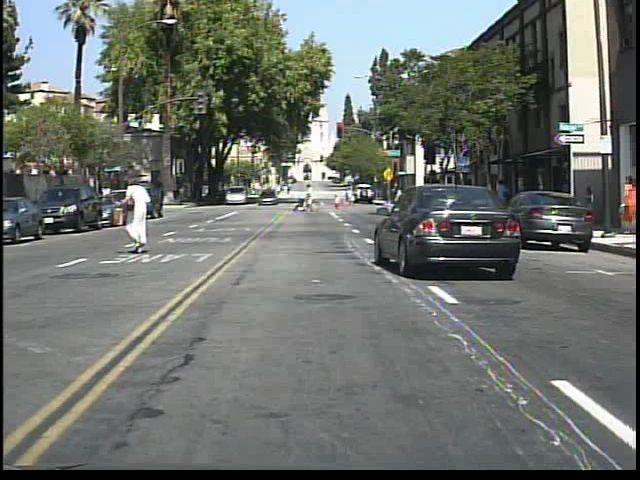person: (119, 171, 162, 263), (617, 166, 637, 236), (494, 172, 516, 221), (305, 182, 318, 212)
